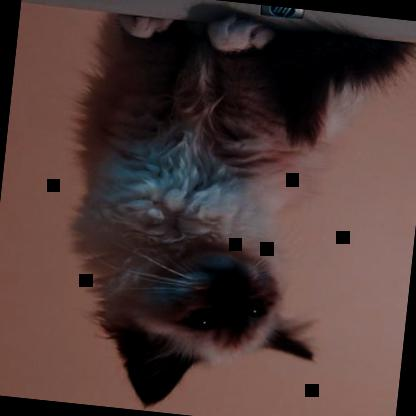cat: (47, 1, 407, 415)
